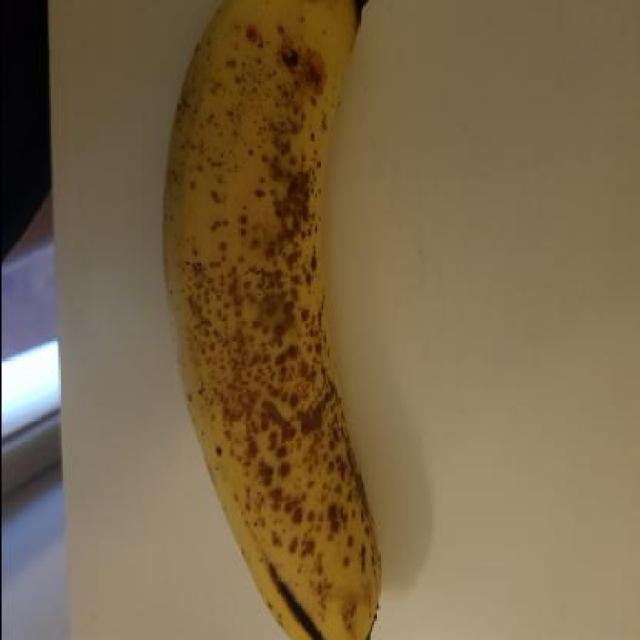banana: (156, 0, 397, 640)
